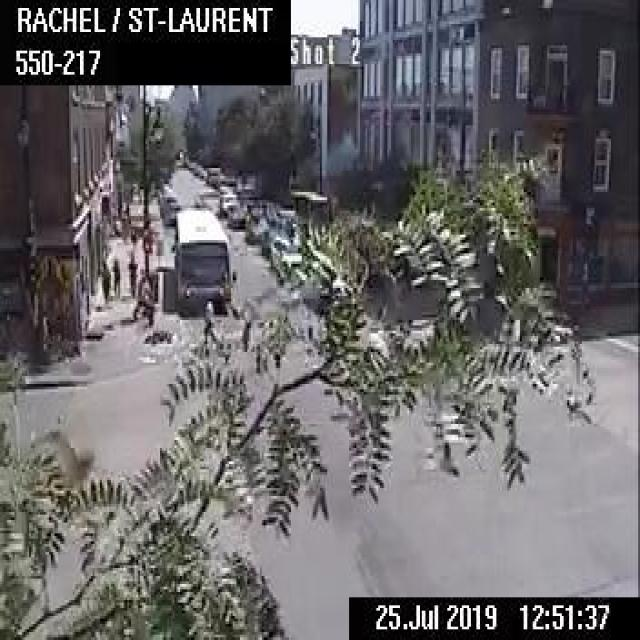bus: (174, 205, 228, 307)
pedestrian: (198, 299, 220, 349), (125, 250, 136, 298), (111, 256, 120, 301), (99, 260, 108, 302)
vehicle: (268, 233, 299, 277), (244, 206, 268, 242), (227, 203, 246, 226), (218, 192, 236, 213)
